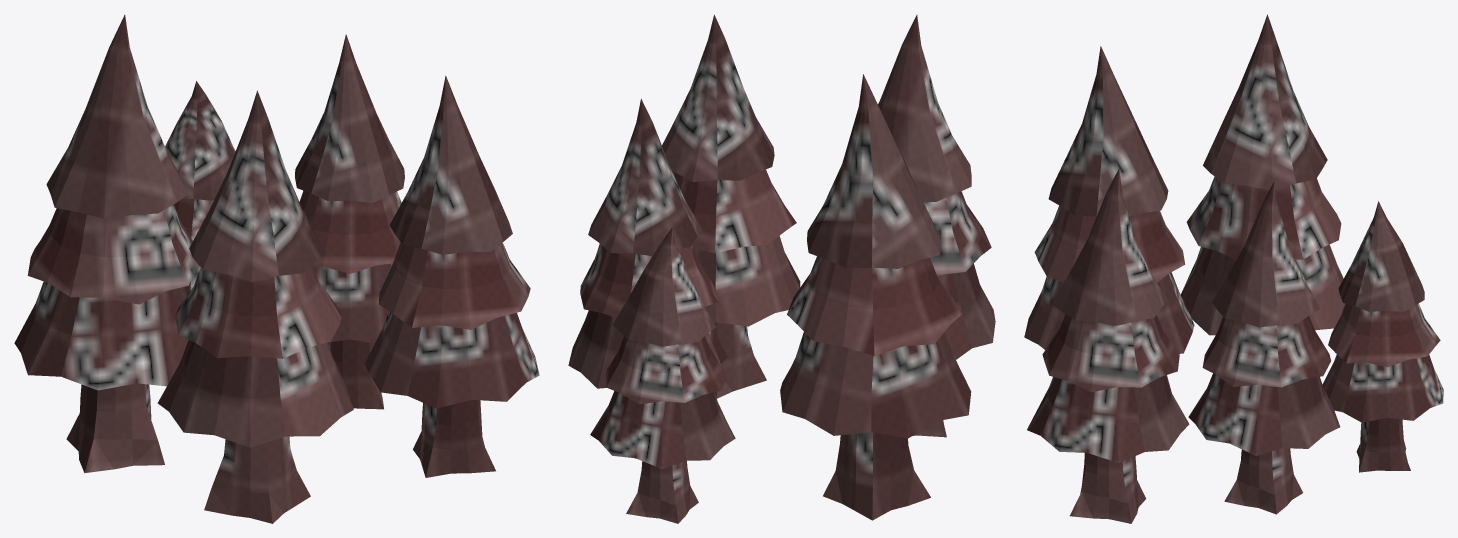
File: trees.fbx
3 views of the same model, side by side, from view 1: azimuth 30°, elevation 25°; view 2: azimuth 150°, elevation 25°; view 3: azimuth 270°, elevation 25° (orthographic). The views are drawn at different scales.
Visible parts, largest first — view 1: trees; view 2: trees; view 3: trees.
Boxes of the visible parts, x1,y1,x2,y2 form: trees: (14,14,539,523); trees: (568,14,995,523); trees: (1024,14,1443,523).
Size of the model in its own units: 1121 by 1119 by 1091.
